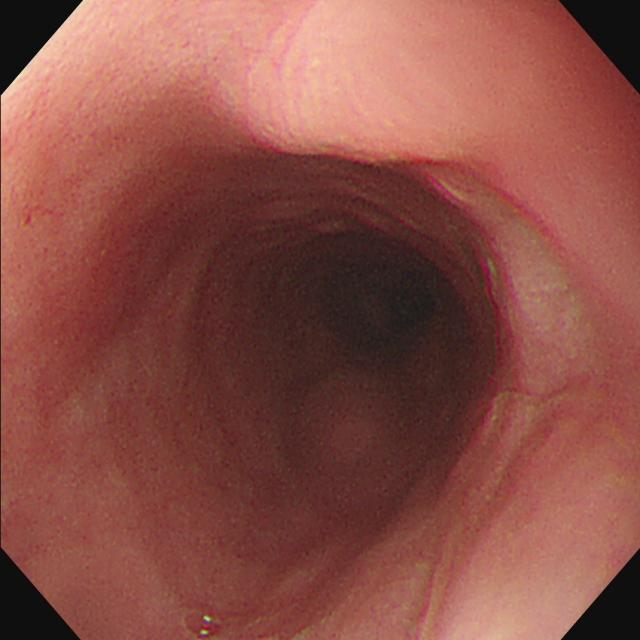E: (274, 211, 453, 373)
T: (183, 611, 228, 640)
